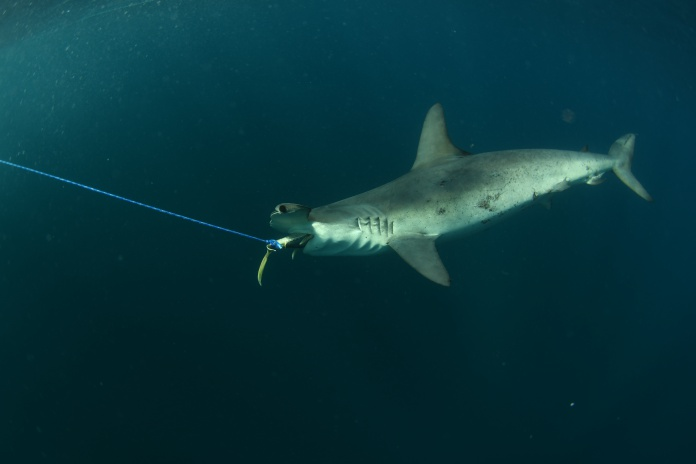Hammer: (245, 92, 669, 304)
